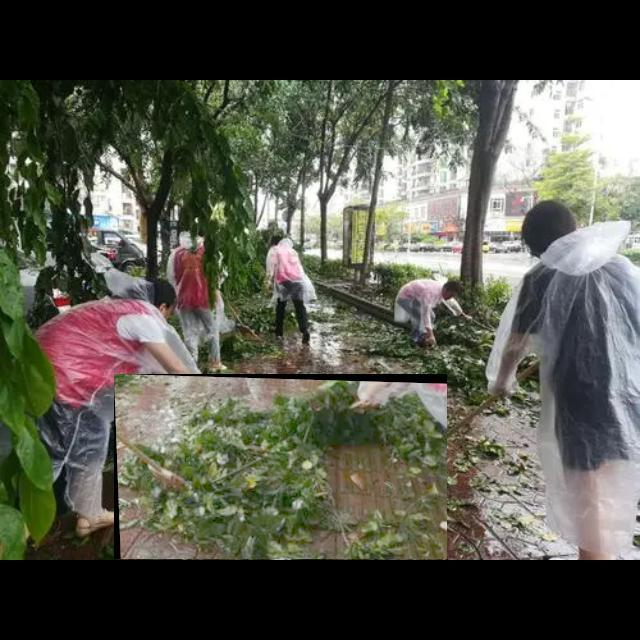fallen_tree: (114, 374, 448, 560)
